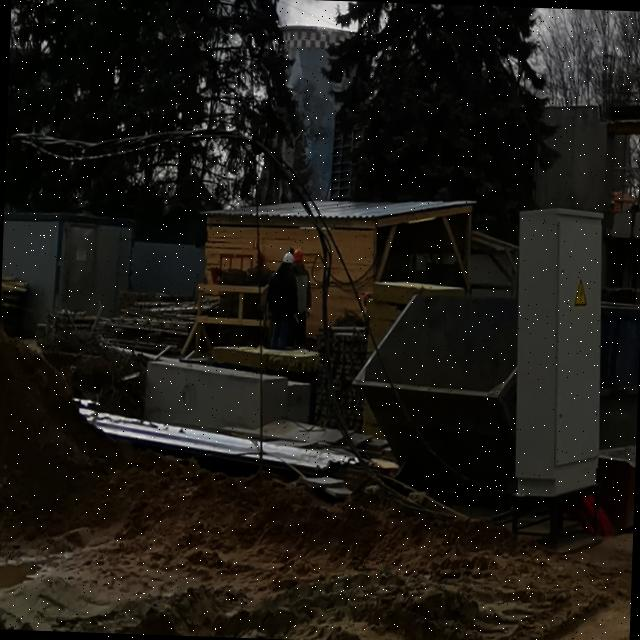Helmet: (282, 253, 295, 270), (294, 249, 305, 265)
NoJacket: (272, 266, 296, 323), (294, 265, 310, 313)
